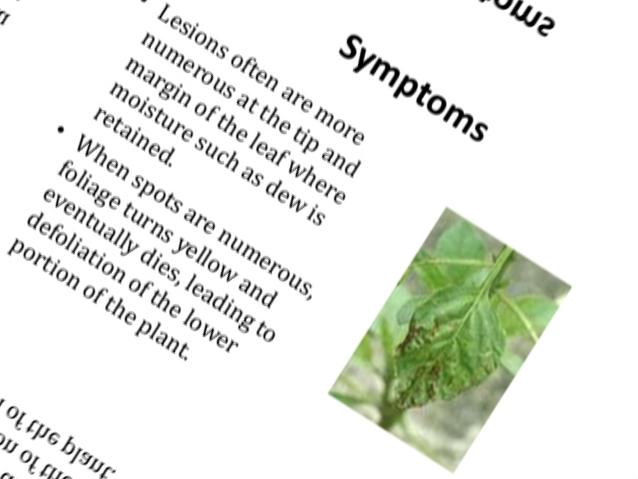Tomato leaf bacterial spot: (361, 263, 529, 449)
